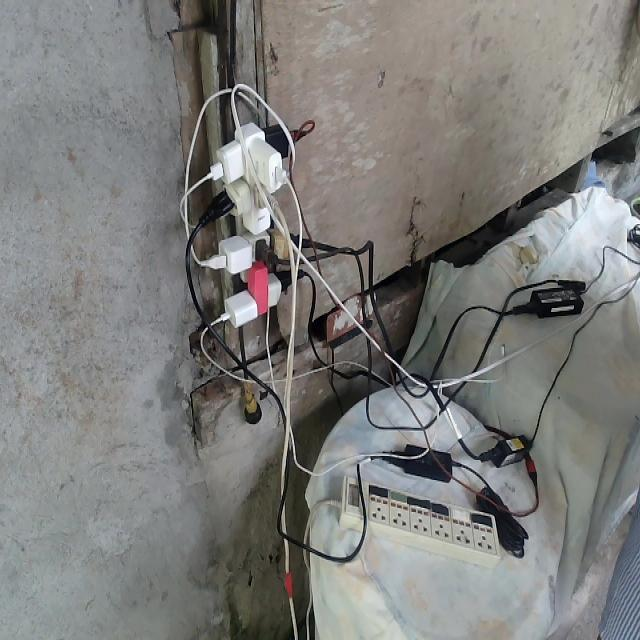-: (179, 81, 315, 332)
